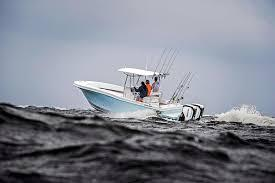fishing boat: (71, 63, 206, 121)
